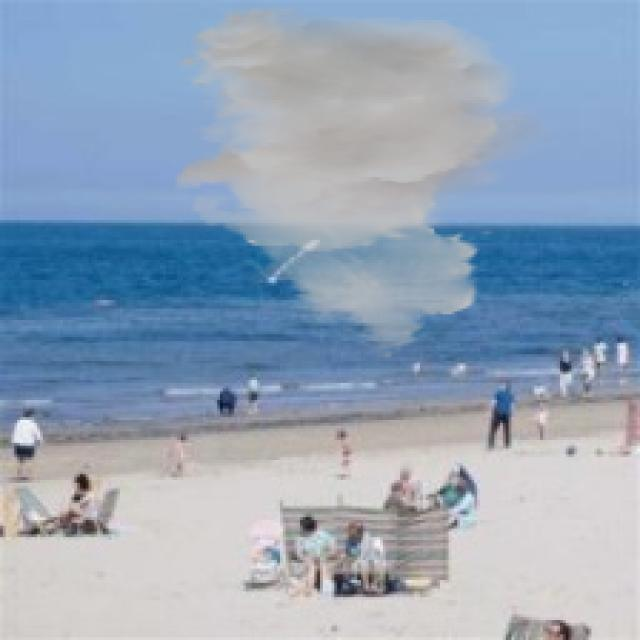smoke: (171, 6, 563, 360)
